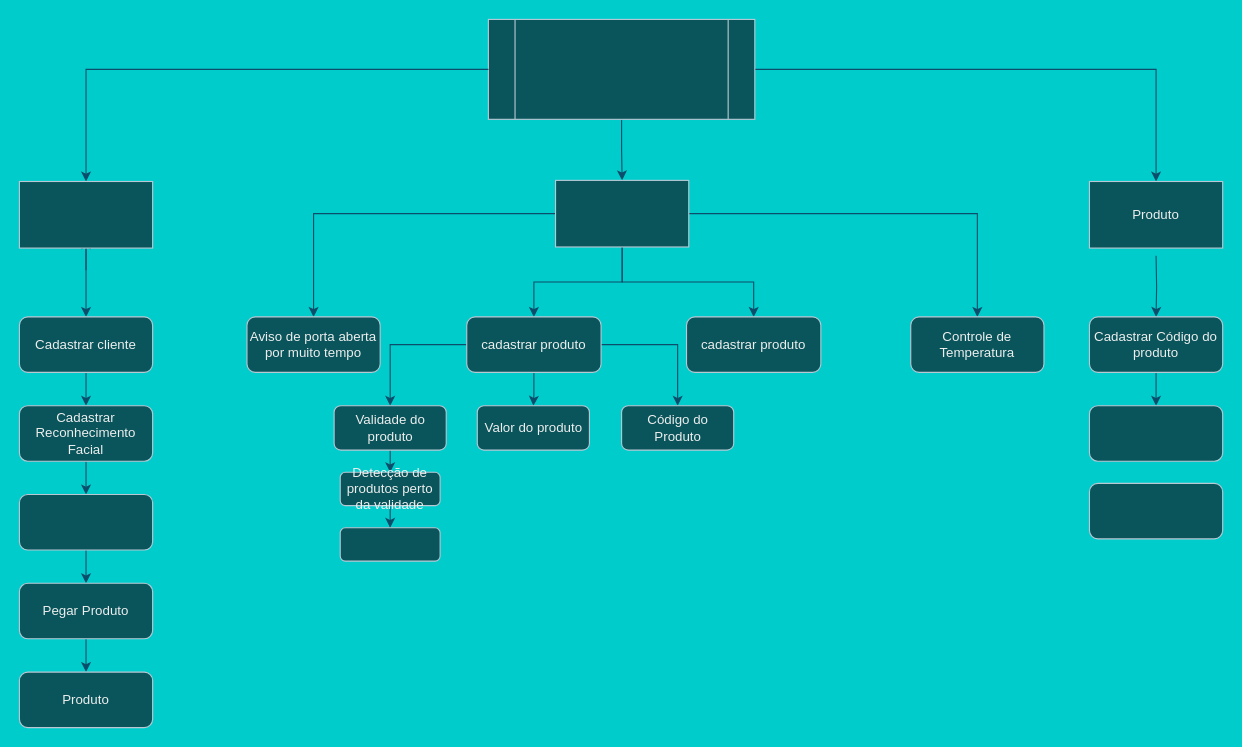
The diagram is 1242 pixels wide and 747 high, and some of its shapes have lost their labels. The shapes that lost their labels are listed below. From the top down, each one's centre as x and y in pixels, then its label:
At (621,68): "Hiper Conveniência".
At (85,214): "Cliente".
At (621,213): "Geladeira".
At (1155,433): "Cadastrar Valor do Produto".
At (85,521): "Ultilizar Reconhecimento Facial".
At (1155,510): "Cadastrar Validade".
At (389,544): "Notificação de produto vencido".
